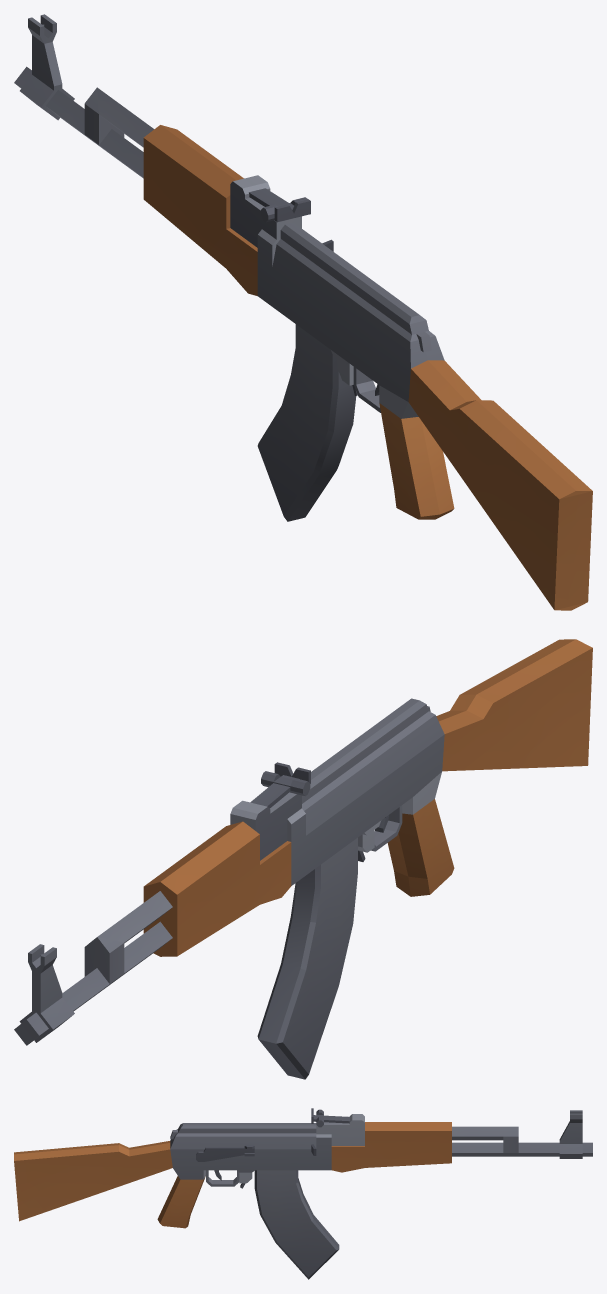
The model's file is AK47_GUN.fbx.
3 views of the same model, one above another, from view 1: azimuth 30°, elevation 25°; view 2: azimuth 150°, elevation 25°; view 3: azimuth 270°, elevation 25° (orthographic). The views are drawn at different scales.
Visible parts, largest first — view 1: AK47_GUN; view 2: AK47_GUN; view 3: AK47_GUN.
Boxes of the visible parts, <box> form: AK47_GUN: <box>14,14,592,610</box>; AK47_GUN: <box>14,639,592,1079</box>; AK47_GUN: <box>14,1108,592,1279</box>.
Size of the model in its own units: 11.61 by 54.95 by 175.
1 material, 1 textured.
